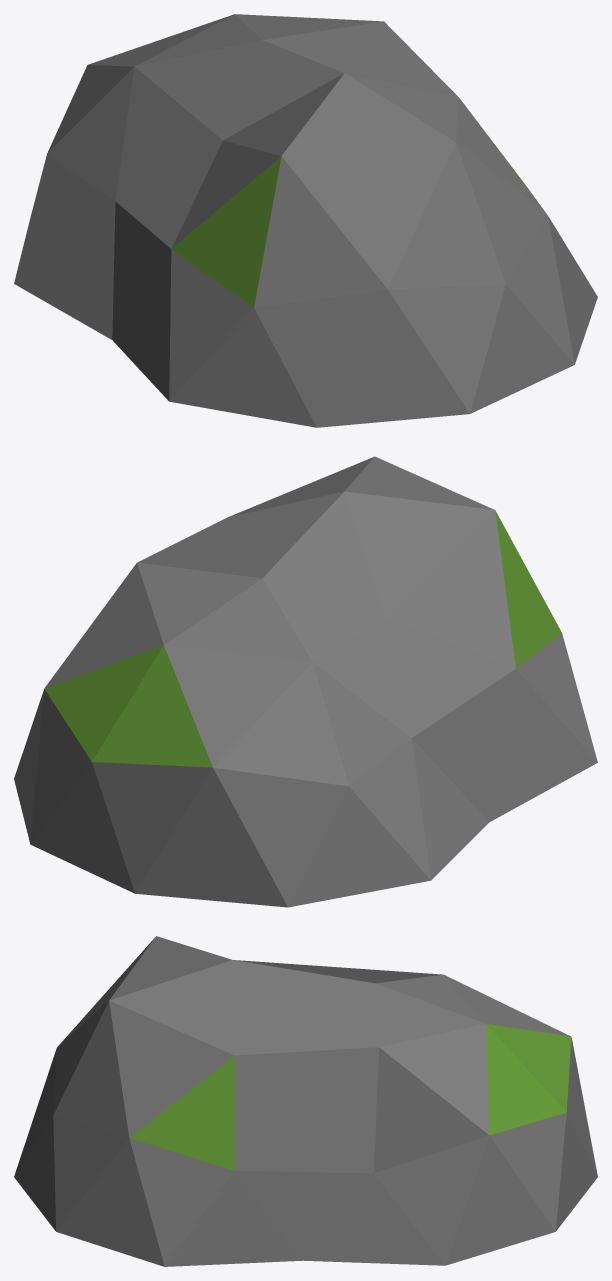
File: Rock2.fbx
3 renders of one model, top to bottom at view 1: azimuth 30°, elevation 25°; view 2: azimuth 150°, elevation 25°; view 3: azimuth 270°, elevation 25°, orthographic. The views are drawn at different scales.
Visible parts, largest first — view 1: Rock 2; view 2: Rock 2; view 3: Rock 2.
Part boxes in pixels (x1,y1,x2,y2): Rock 2: (14,14,597,427); Rock 2: (14,456,597,907); Rock 2: (14,936,597,1266).
Bounding box in the file's own units: 566 × 319 × 766.
